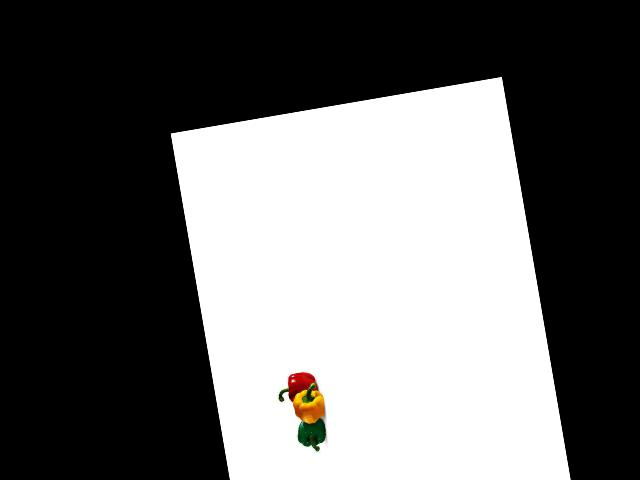bell_pepper: (291, 413, 331, 453)
